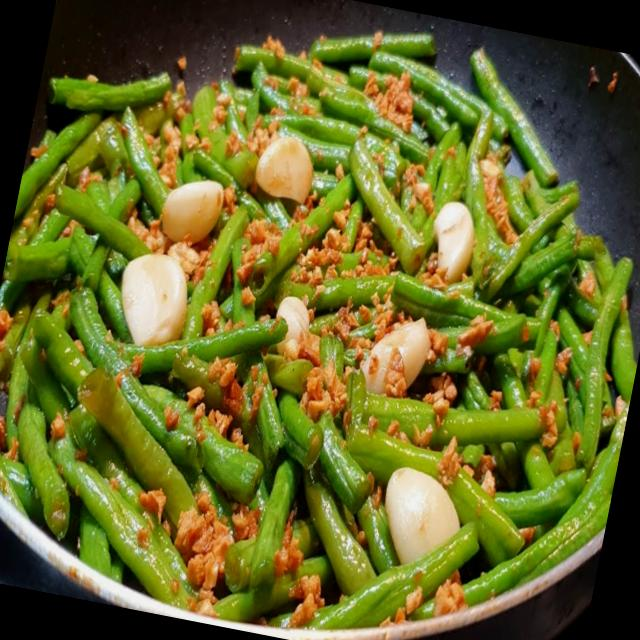dau que: (0, 32, 638, 631)
